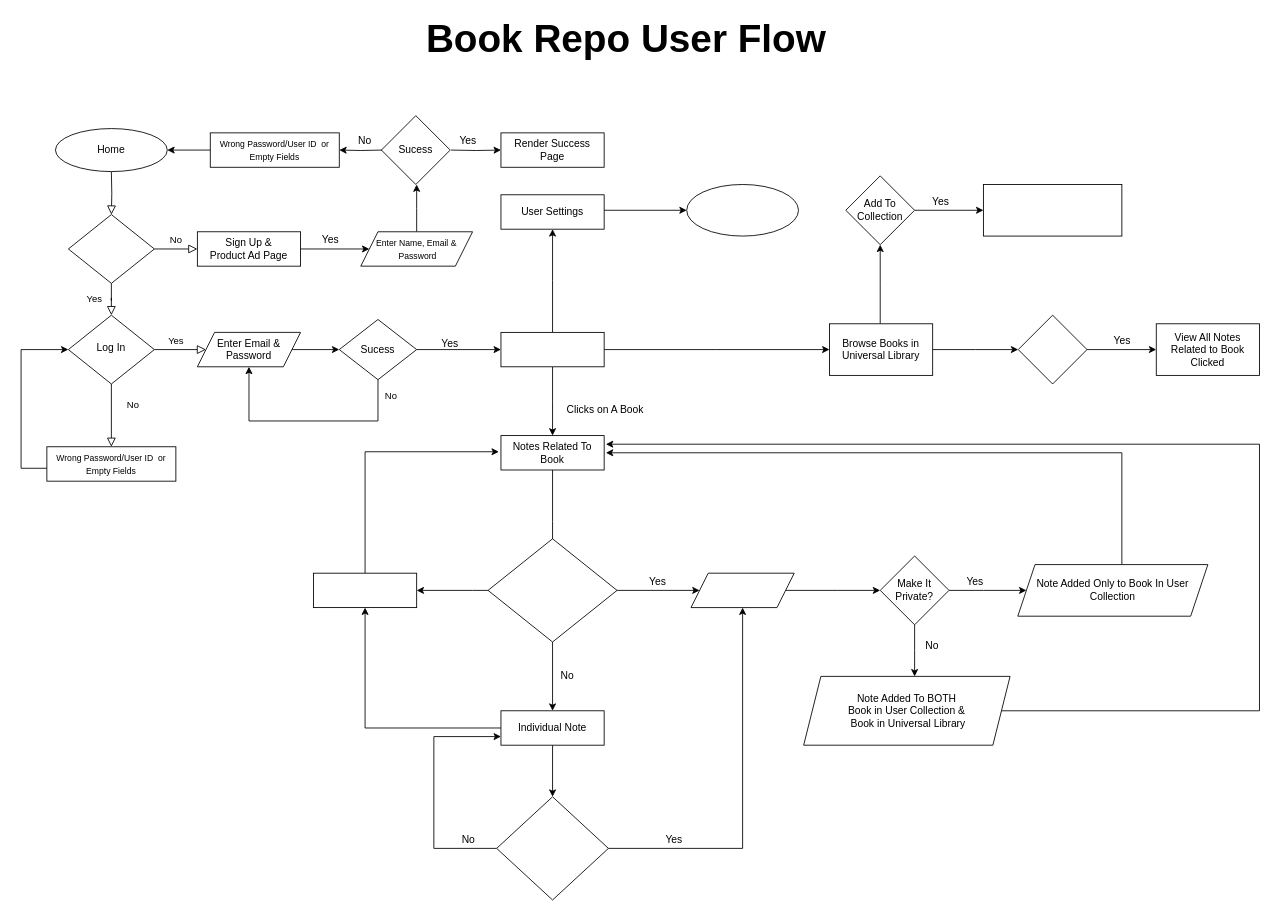
The diagram is 1281 pixels wide and 915 high, and some of its shapes have lost their labels. The shapes that lost their labels are listed below. From the top down, each one's box as (x1, y1, x2, y2) in pixels, then its label:
(686, 184, 799, 236): Log Out
(983, 184, 1122, 236): Confirmation That Book Has Been Added
(68, 214, 154, 283): Registered User?
(500, 332, 604, 367): User's Book Collection
(1017, 314, 1087, 384): Clicks On Book
(313, 572, 417, 608): Delete Note
(487, 538, 617, 642): Edit on Page Showing All Notes?
(690, 572, 794, 608): Post Note
(496, 796, 608, 900): Edit on Individual Note?
